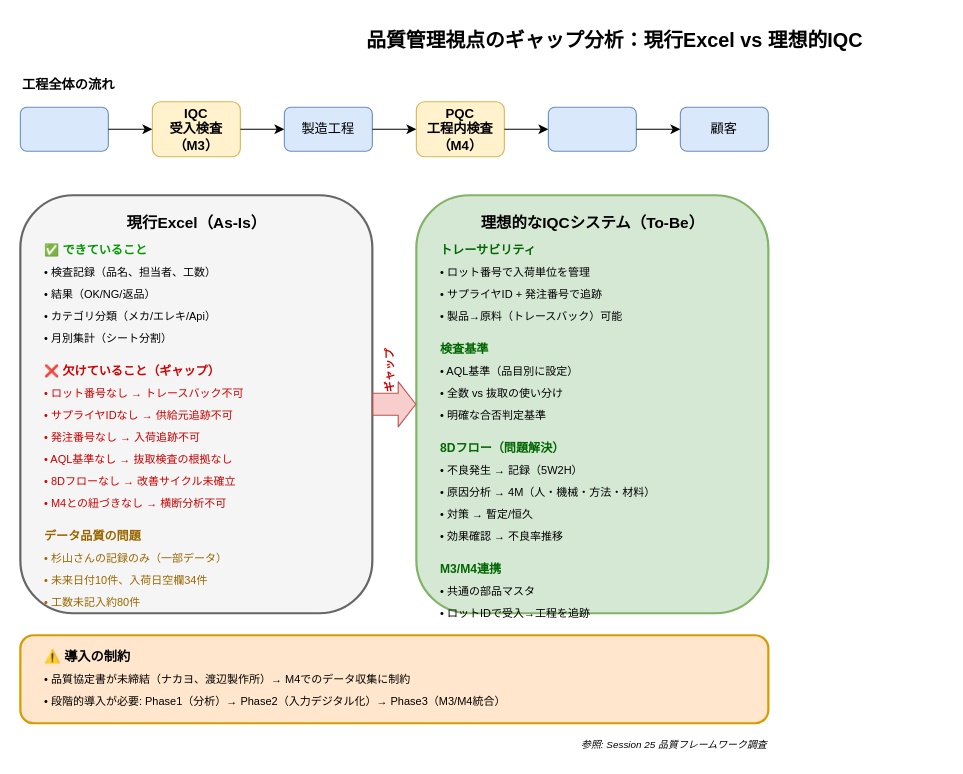
This 963x774 diagram has some shape labels left out. Here are the shapes that lost their labels. From the top down, the centre of each, then its label:
(x=63, y=128): サプライヤ
(x=591, y=128): OQC 出荷検査
